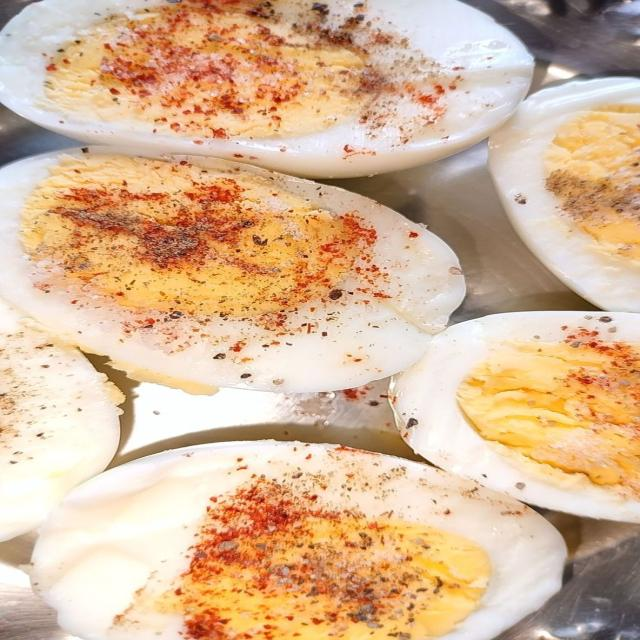eggs: (11, 0, 640, 640)
